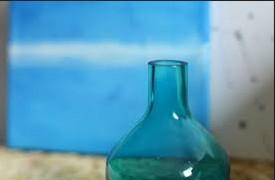bottle: (112, 41, 237, 176)
